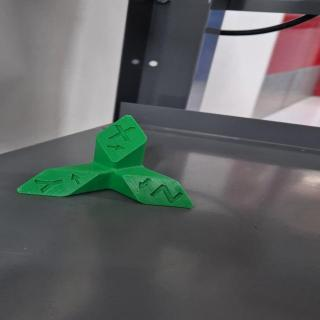eje: (13, 113, 196, 211)
